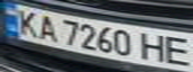0: (112, 27, 136, 57)
2: (75, 21, 100, 52)
6: (93, 25, 115, 55)
7: (57, 17, 81, 47)
A: (33, 12, 60, 43)
E: (160, 34, 193, 66)
H: (139, 30, 172, 63)
K: (9, 7, 42, 37)
